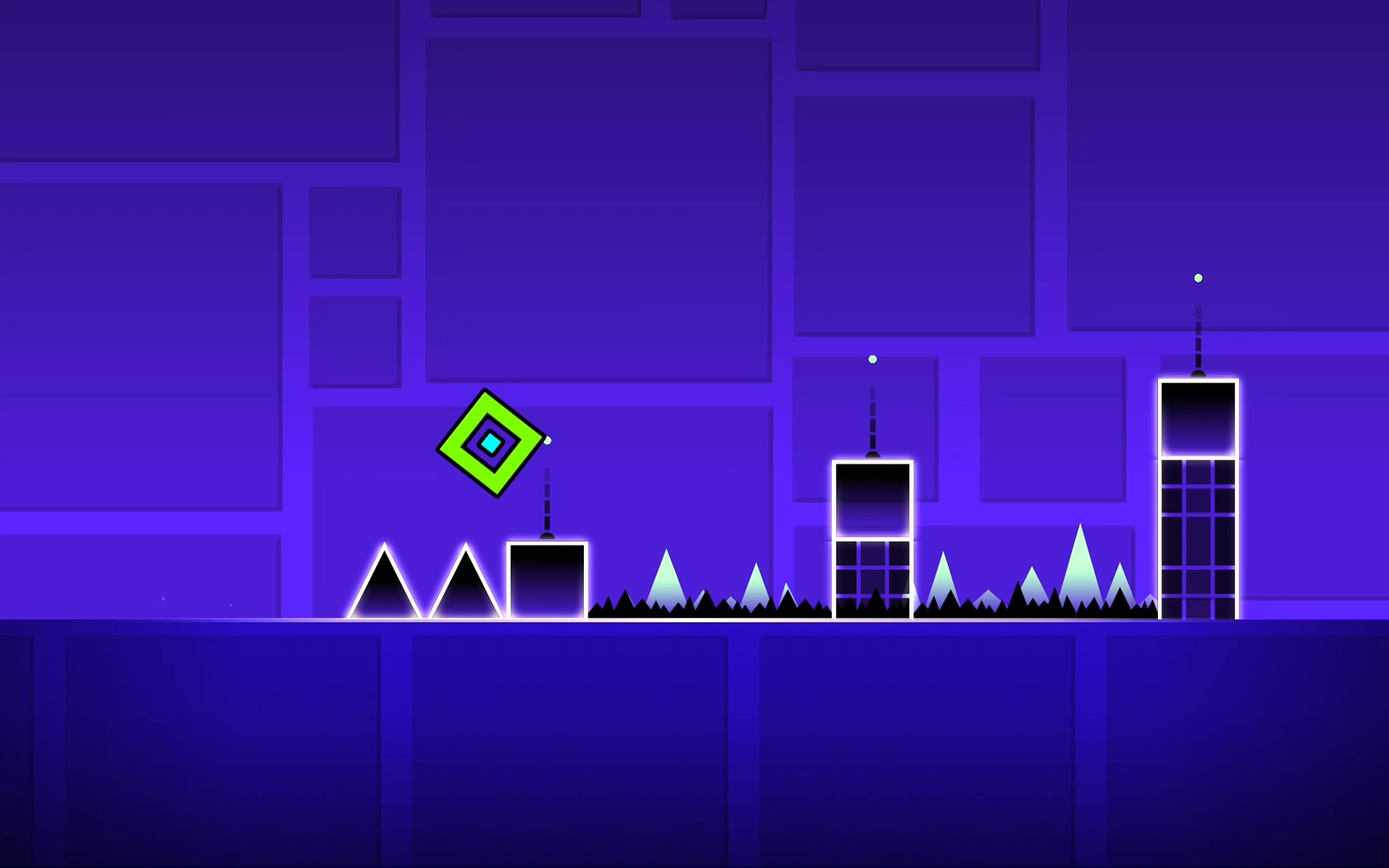Block: (503, 540, 590, 618), (1158, 378, 1238, 457), (833, 460, 912, 538)
Block2: (1159, 461, 1236, 620), (834, 538, 912, 617)
Player: (435, 388, 547, 496)
Spike: (345, 542, 422, 618), (429, 542, 504, 618)
Spike3: (917, 590, 1155, 620), (589, 593, 830, 620)
